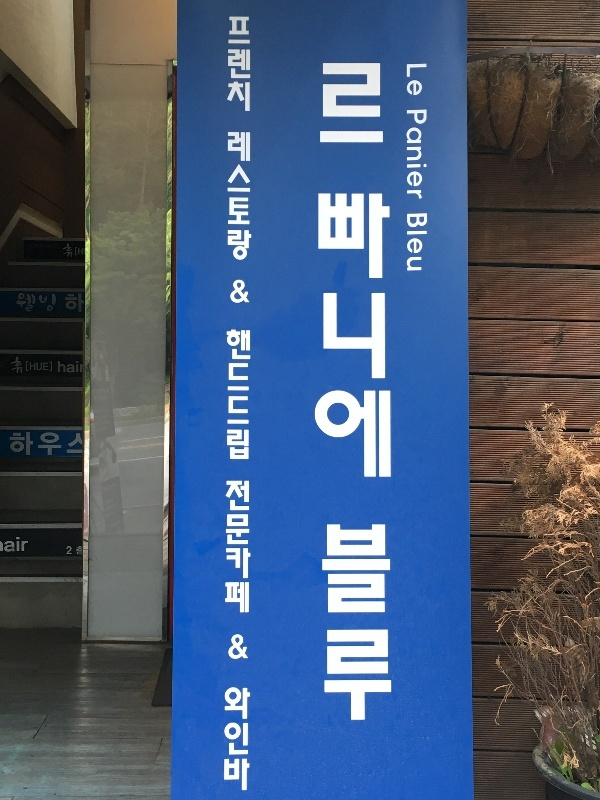text: (321, 192, 336, 480), (337, 192, 352, 480), (353, 192, 368, 480), (369, 192, 384, 480), (321, 524, 336, 724), (337, 524, 352, 724), (353, 524, 368, 724), (369, 524, 384, 724), (385, 192, 392, 480), (226, 481, 240, 614), (226, 330, 240, 461), (227, 131, 240, 261), (385, 524, 393, 724), (225, 688, 240, 792), (241, 131, 252, 261), (369, 61, 385, 147), (241, 481, 251, 614), (241, 330, 251, 461), (337, 61, 352, 147), (353, 61, 368, 147), (322, 61, 336, 147), (229, 16, 240, 113), (241, 688, 251, 792), (241, 16, 251, 113), (417, 108, 427, 199), (407, 108, 416, 199), (417, 213, 428, 272), (318, 192, 320, 480), (407, 213, 416, 272), (17, 432, 32, 457), (33, 432, 48, 457), (49, 432, 64, 457), (65, 432, 80, 457), (417, 63, 427, 97), (407, 63, 416, 97), (17, 293, 32, 312), (33, 293, 48, 312), (65, 294, 80, 313), (17, 356, 32, 375), (33, 356, 48, 375), (1, 537, 16, 553), (241, 279, 250, 305), (65, 243, 80, 258), (232, 634, 240, 661), (241, 634, 249, 661), (232, 279, 240, 305), (65, 361, 80, 374), (17, 537, 29, 553), (9, 432, 16, 457), (49, 293, 56, 312), (67, 546, 80, 555), (10, 356, 16, 375), (33, 243, 48, 249), (58, 361, 64, 374), (49, 356, 53, 375), (81, 432, 84, 457), (81, 243, 85, 258), (81, 294, 84, 313), (49, 243, 58, 249), (76, 546, 80, 556), (81, 361, 83, 374), (28, 243, 32, 249), (81, 546, 83, 556), (63, 243, 64, 258)
